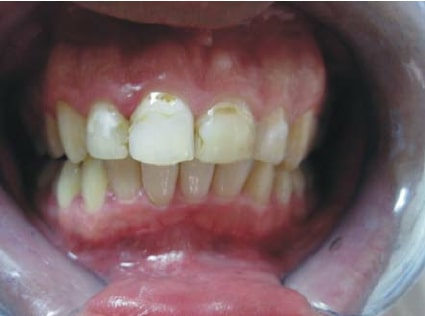karies: (114, 111, 139, 155), (145, 90, 180, 109), (206, 101, 243, 115), (189, 130, 209, 154)
